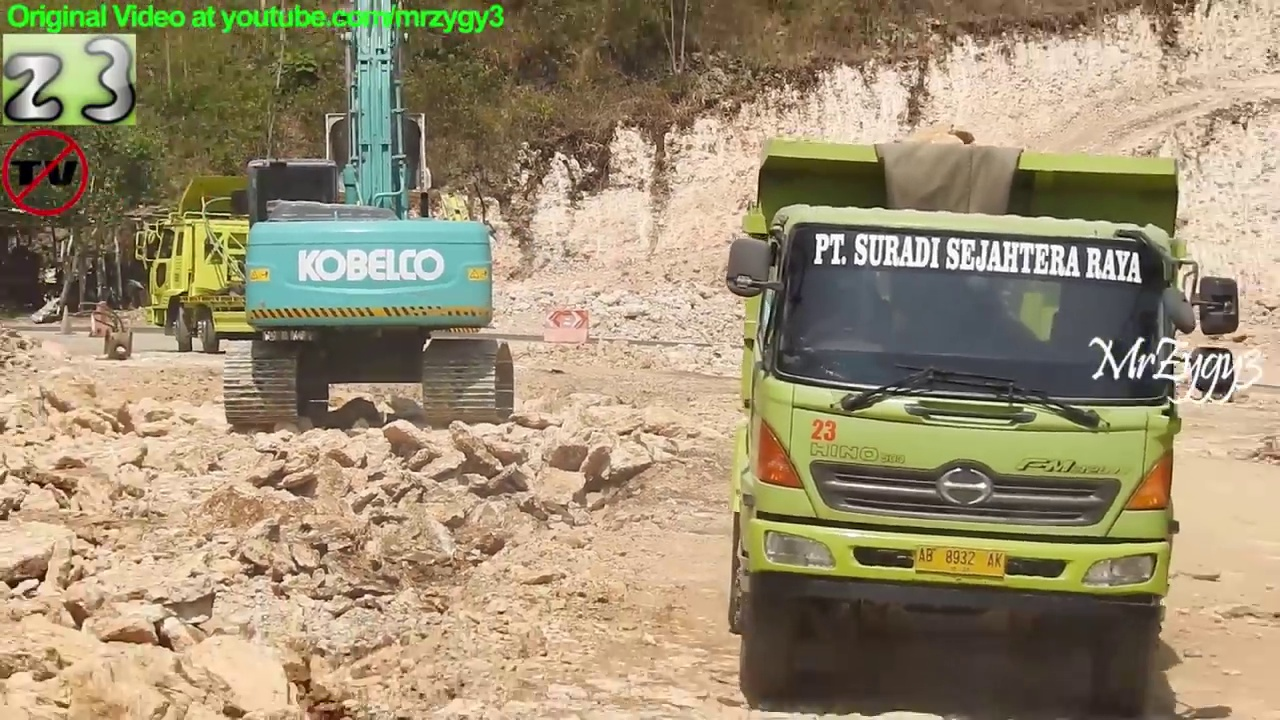excavator: (219, 1, 523, 434)
truck: (712, 130, 1245, 720), (129, 171, 506, 358)
